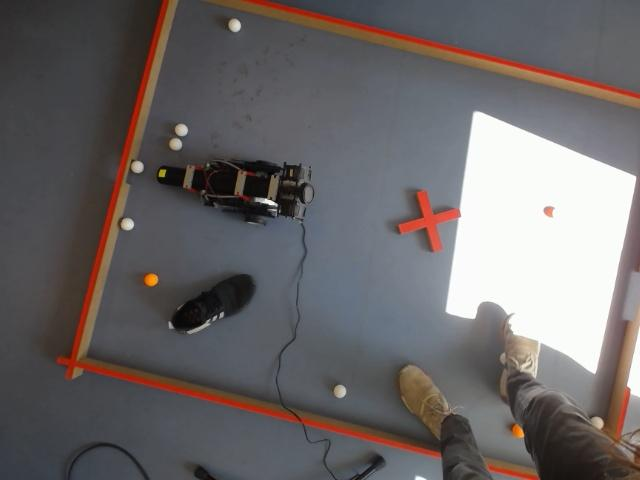orange: (143, 272, 160, 287), (512, 424, 524, 438)
robot: (157, 160, 315, 226)
robot-front: (157, 166, 182, 185)
white: (333, 383, 348, 399), (227, 17, 242, 33), (174, 122, 188, 138), (590, 416, 604, 430), (121, 218, 134, 231), (169, 138, 182, 151), (130, 161, 144, 173)
